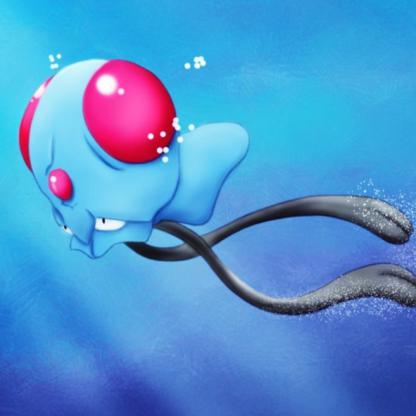Tentacool: (7, 51, 416, 332)
